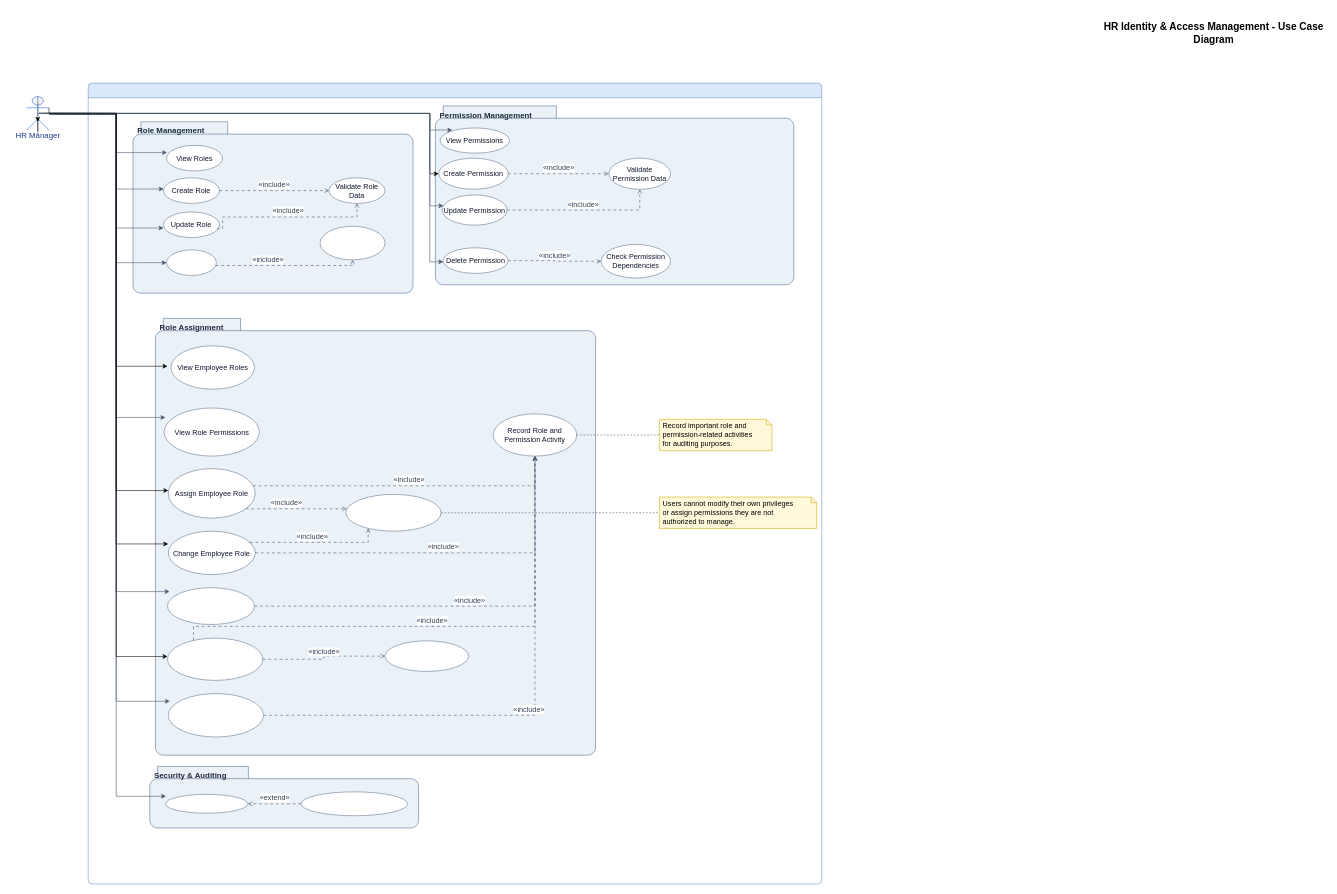
The diagram is 1337 pixels wide and 894 high, and some of its shapes have lost their labels. The box of each missing label's shape, as (x1, y1, x2, y2) in pixels:
Assign Role Permission: (167, 638, 263, 680)
Check Role Dependencies: (320, 226, 385, 260)
Delete Role: (166, 249, 216, 275)
Identity & Access Management: (88, 83, 822, 884)
Remove Employee Role: (167, 587, 255, 625)
Remove Role Permission: (168, 693, 264, 737)
Review Security Events: (300, 791, 408, 816)
Validate Permission Assignment: (384, 640, 469, 671)
Validate Role Assignment: (345, 494, 441, 531)
View Audit Trail: (165, 794, 248, 813)
